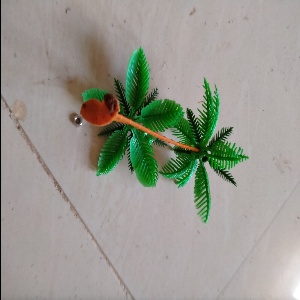plant: (76, 58, 234, 196)
